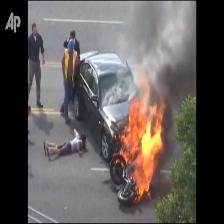fire: (117, 68, 163, 198)
